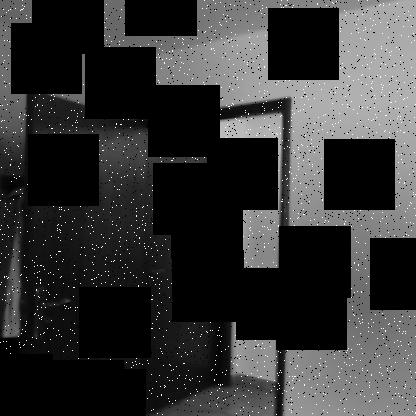Porte: (19, 87, 292, 415), (143, 121, 237, 415)
